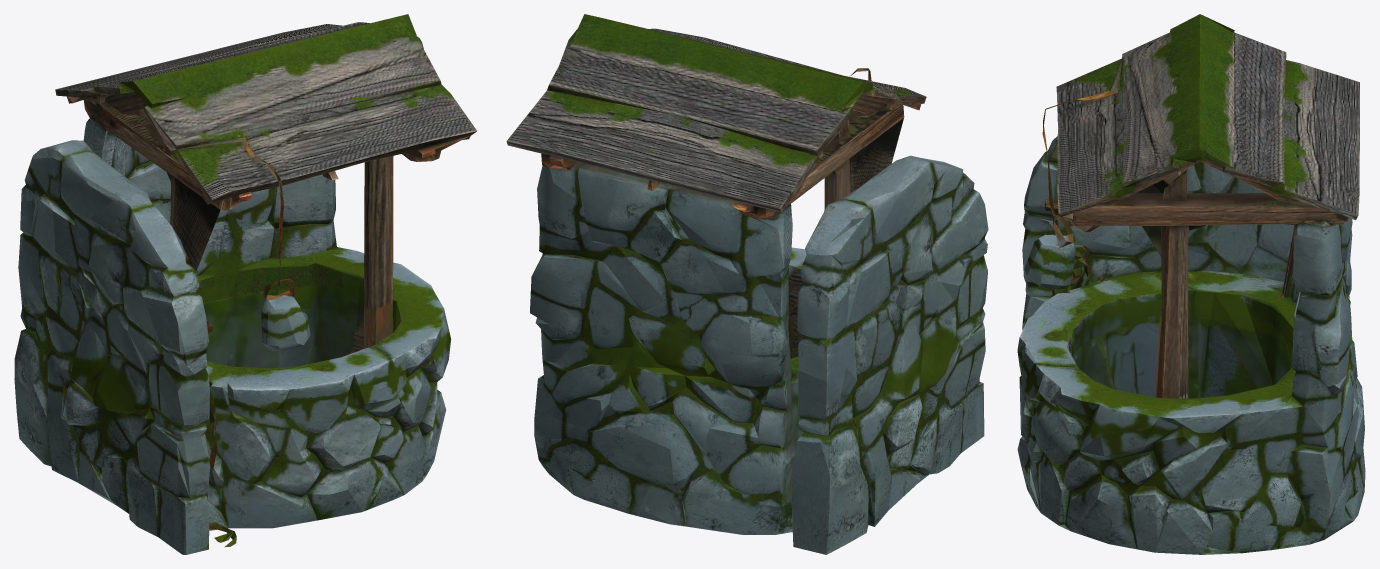
File: well.glb
The picture shows the model from 3 angles, left to right: view 1: azimuth 30°, elevation 25°; view 2: azimuth 150°, elevation 25°; view 3: azimuth 270°, elevation 25°; orthographic projection.
Size of the model in its own units: 1.69 by 1.9 by 1.48.
1 material, 1 textured.
